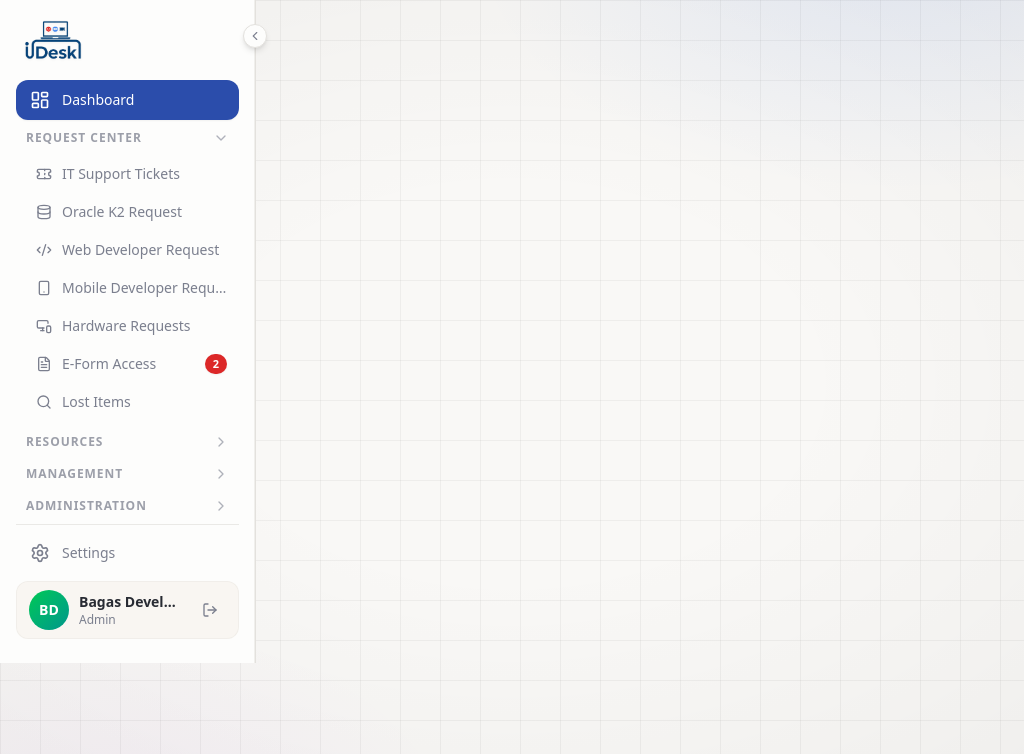
Test: BentoSidebar › keeps Request Center permanently expanded on /dashboard while allowing max 1 other secondary group
Expected: the text "IT Support Tickets" is shown, [62, 164, 180, 184]
Expected: the text "E-Form Access" is shown, [62, 354, 156, 374]
Click the button "Resources" at (128, 442), box [16, 428, 239, 456]
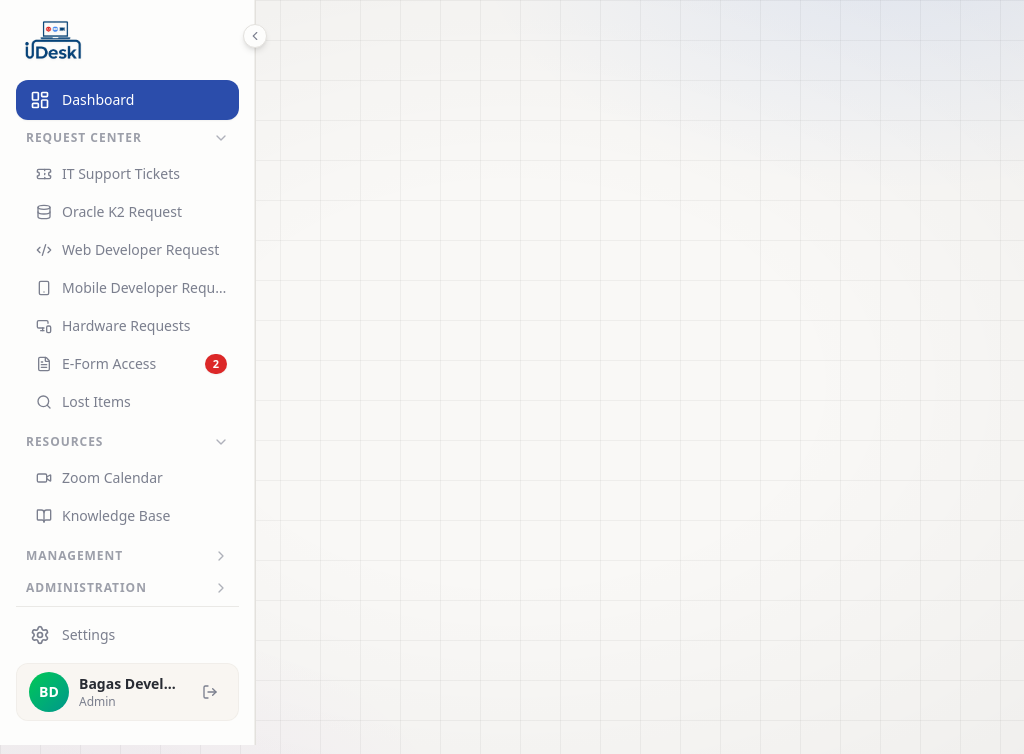
Expected: the text "IT Support Tickets" is shown, [62, 164, 180, 184]
Expected: the text "Zoom Calendar" is shown, [62, 468, 163, 488]
Click the button "Administration" at (128, 588), box [16, 574, 239, 602]
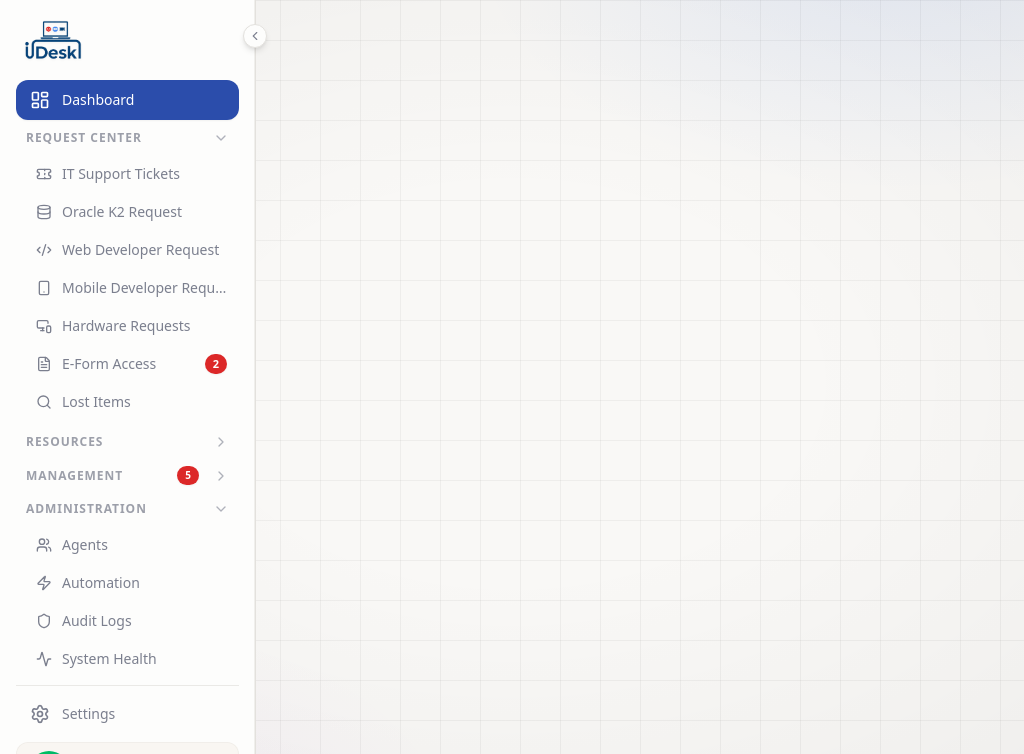
Expected: the text "IT Support Tickets" is shown, [62, 164, 180, 184]
Expected: the text "Agents" is shown, [62, 535, 108, 555]
Expected: the link "Zoom Calendar" is gone
Click the button "Administration" at (128, 509), box [16, 495, 239, 523]
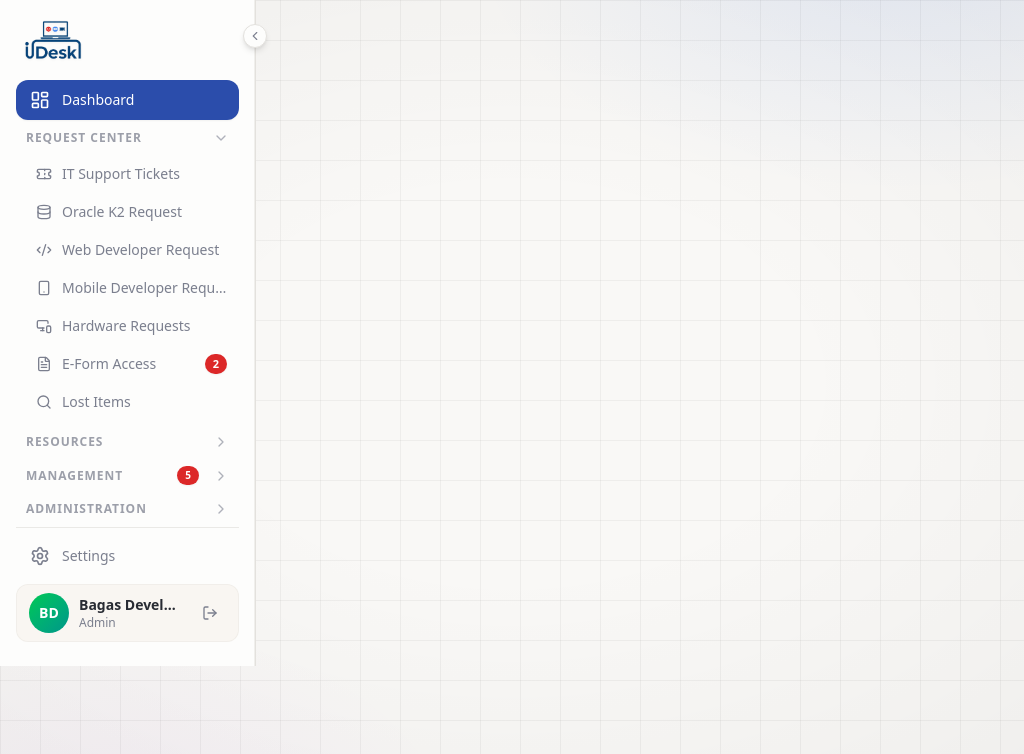
Expected: the text "IT Support Tickets" is shown, [62, 164, 180, 184]
Expected: the link "Agents" is gone
